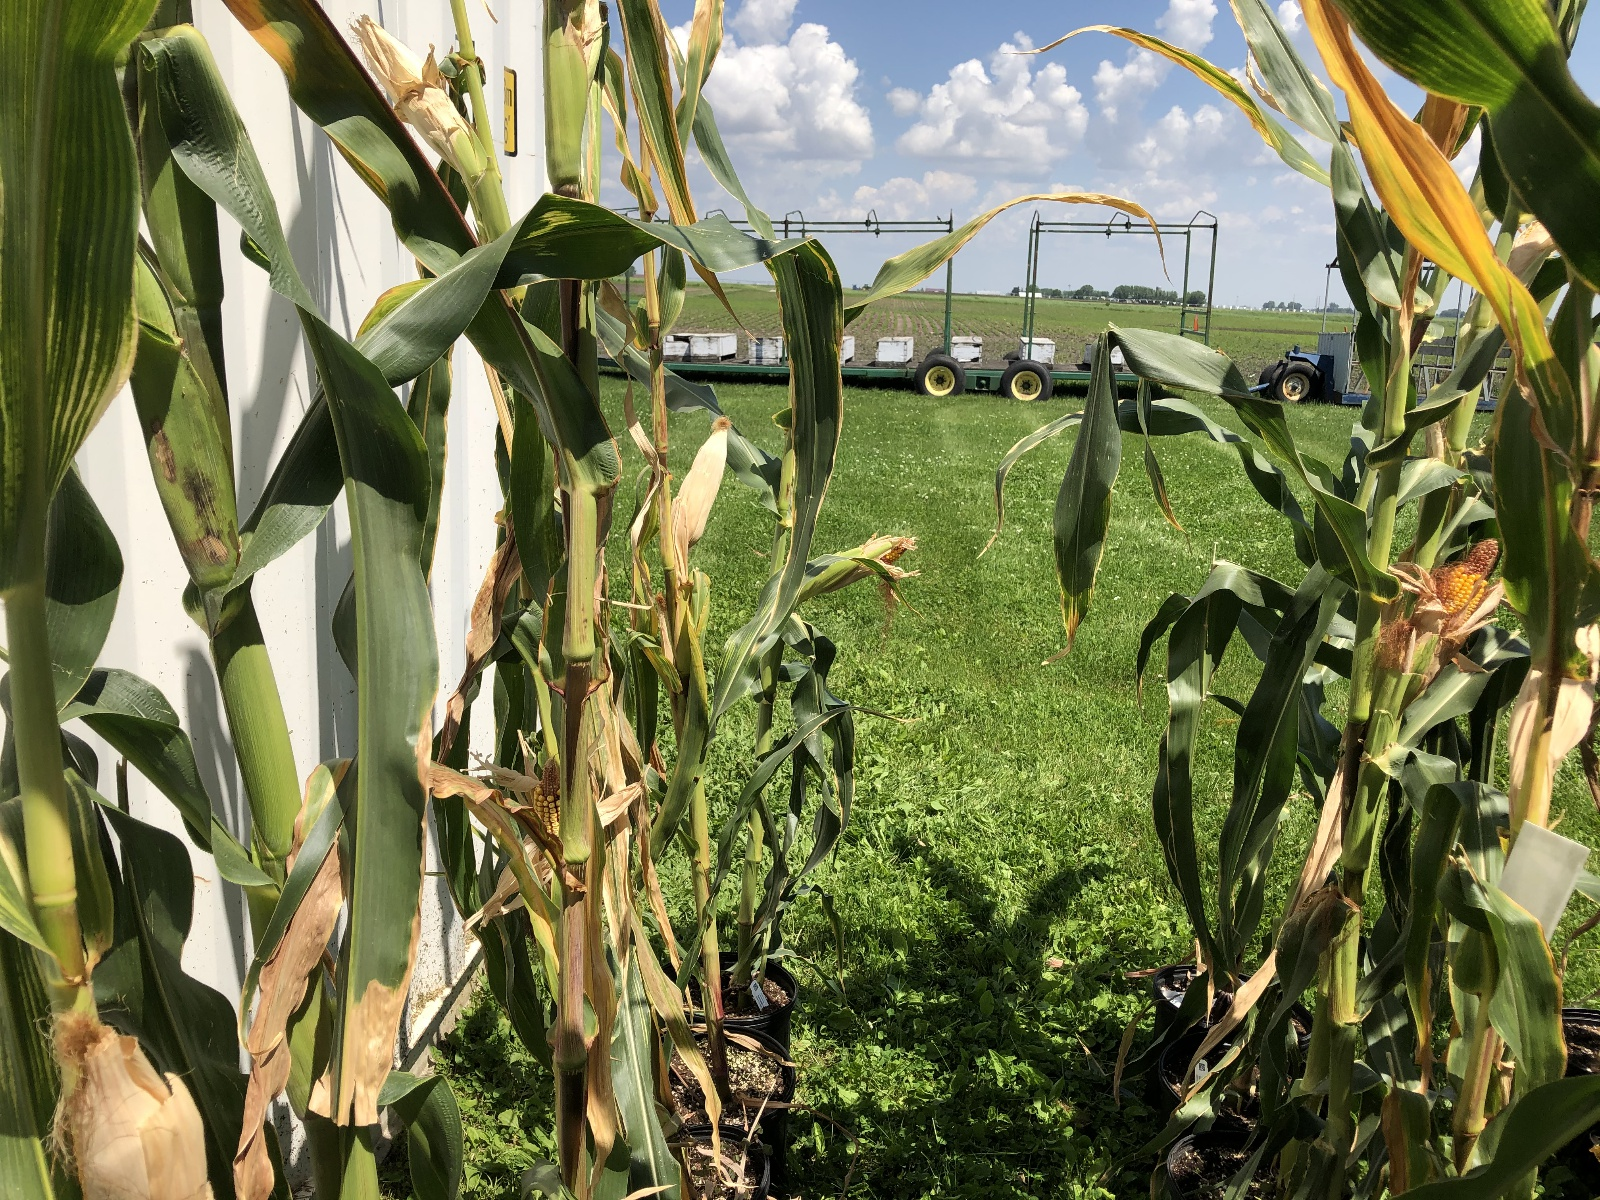ear: (35, 1007, 197, 1196), (350, 13, 484, 179), (1396, 531, 1504, 672), (663, 408, 736, 545), (795, 526, 926, 600), (525, 753, 566, 839)
